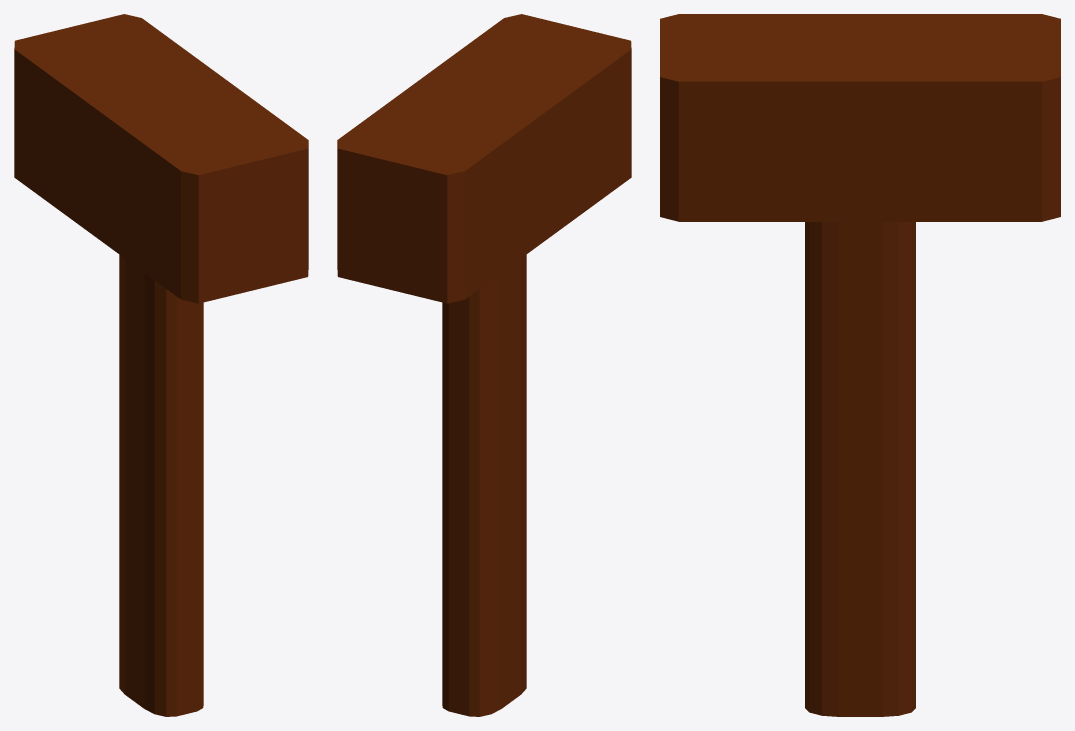
Rendered from Mallet.fbx.
The picture shows the model from 3 angles, left to right: view 1: azimuth 30°, elevation 25°; view 2: azimuth 150°, elevation 25°; view 3: azimuth 270°, elevation 25°; orthographic projection. The views are drawn at different scales.
Parts seen in each view (by area): view 1: Mallet; view 2: Mallet; view 3: Mallet.
Boxes of the visible parts, bbox=[...] form: Mallet: bbox=[14, 14, 308, 716]; Mallet: bbox=[337, 14, 631, 716]; Mallet: bbox=[660, 14, 1060, 716].
Size of the model in its own units: 213 by 957 by 531.
